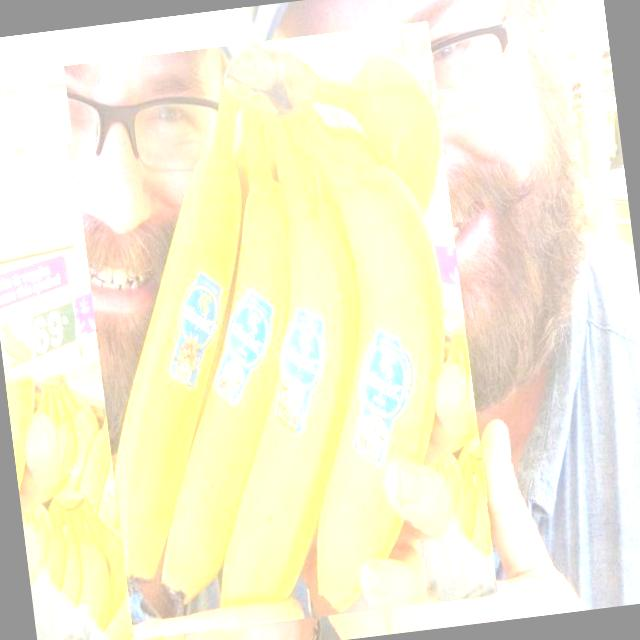Banana: (63, 21, 498, 639), (5, 362, 186, 640), (0, 317, 39, 365)
